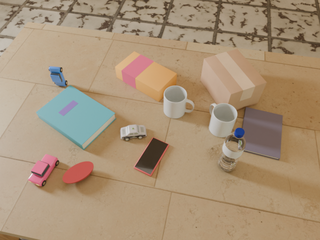book: (36, 85, 116, 150), (242, 107, 283, 160)
bottle: (218, 128, 246, 172)
box: (201, 49, 266, 111), (115, 52, 177, 101)
cup: (164, 86, 194, 118), (209, 103, 237, 137)
mouse: (63, 161, 93, 184)
phone: (134, 138, 169, 176)
toy_car: (28, 154, 59, 186), (120, 125, 146, 141), (49, 66, 67, 86)
